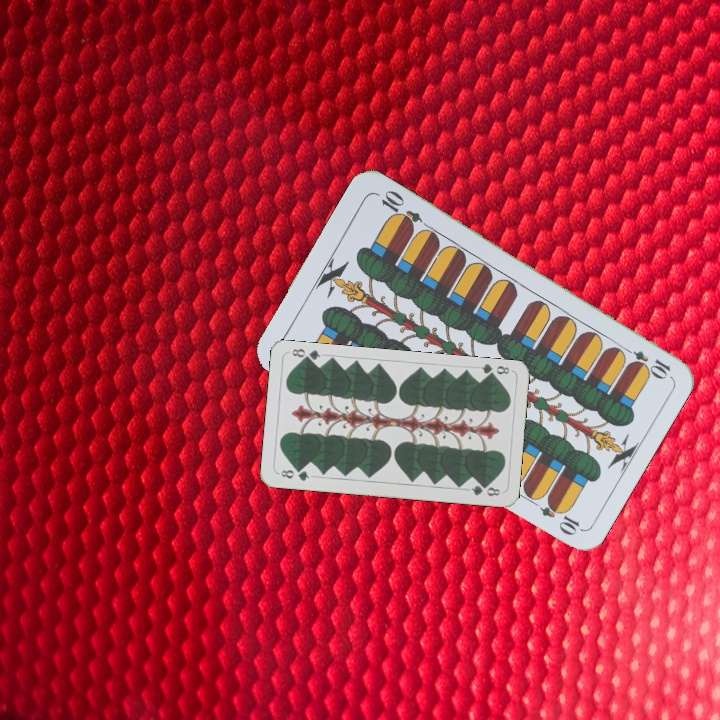E10: (617, 342, 673, 380)
G8: (477, 360, 512, 381), (277, 465, 312, 484)
